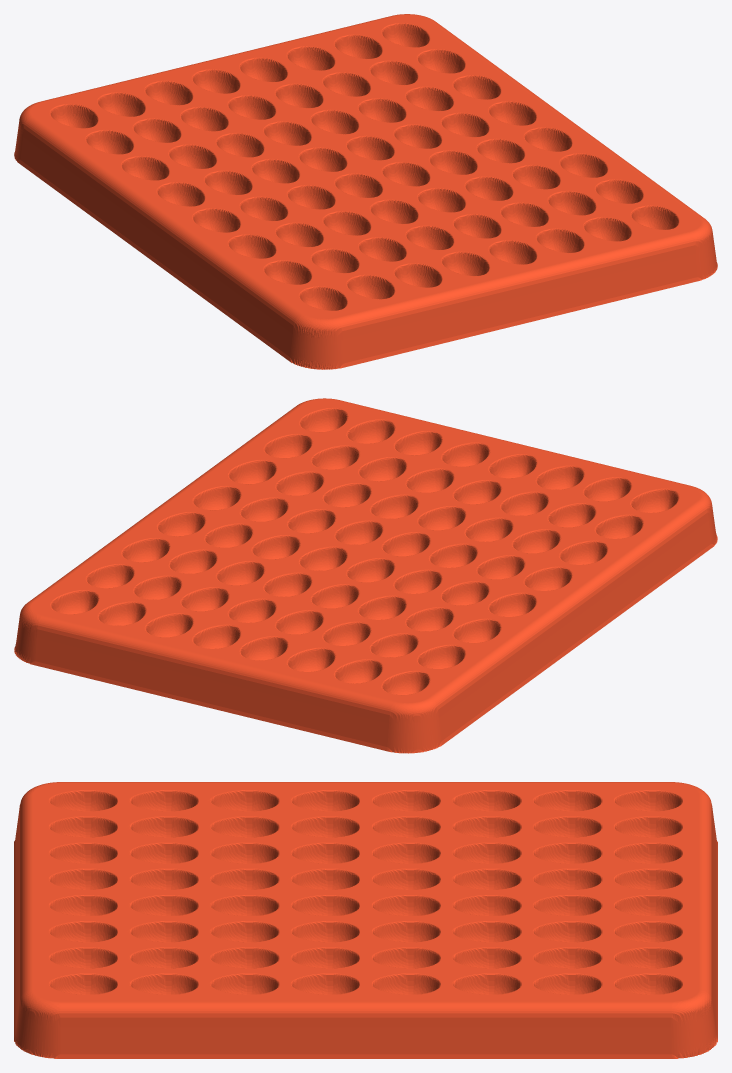
Rendered from mold.glb.
3 views of the same model, one above another, from view 1: azimuth 30°, elevation 25°; view 2: azimuth 150°, elevation 25°; view 3: azimuth 270°, elevation 25° (orthographic). The views are drawn at different scales.
Parts seen in each view (by area): view 1: geometry_0; view 2: geometry_0; view 3: geometry_0.
Boxes of the visible parts, bbox=[...] form: geometry_0: bbox=[14, 14, 717, 369]; geometry_0: bbox=[14, 398, 717, 753]; geometry_0: bbox=[14, 782, 717, 1058].
Size of the model in its own units: 0.1067 by 0.0105 by 0.1355.
